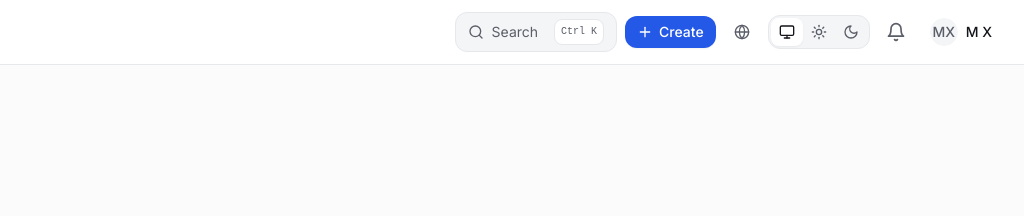
Test: MarketingHeader quick actions › lists the quick-create actions in the "+ Create" menu
Click the button "Create": (670, 32) [625,16,716,48]
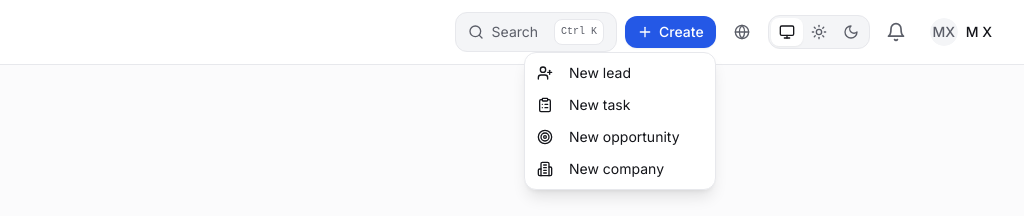
Result: the menu item "New lead" is shown at [537,64,631,81]
Result: the menu item "New task" is shown at [537,96,630,113]
Result: the menu item "New opportunity" is shown at [537,128,680,145]
